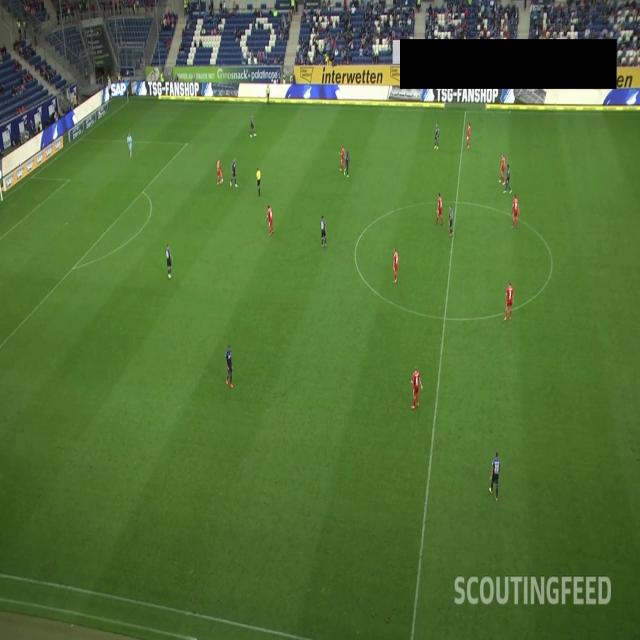player: (489, 447, 502, 500), (410, 364, 422, 407), (503, 278, 513, 321), (225, 343, 235, 385), (125, 125, 135, 160), (165, 243, 175, 277), (435, 190, 443, 230), (265, 203, 275, 232), (447, 203, 455, 239), (231, 154, 239, 190), (498, 148, 506, 183), (319, 214, 327, 249), (391, 246, 399, 280), (215, 156, 223, 188), (338, 143, 346, 173), (510, 196, 518, 225), (249, 113, 256, 141), (434, 122, 440, 153), (345, 148, 350, 180), (467, 119, 472, 151), (506, 163, 510, 194)
